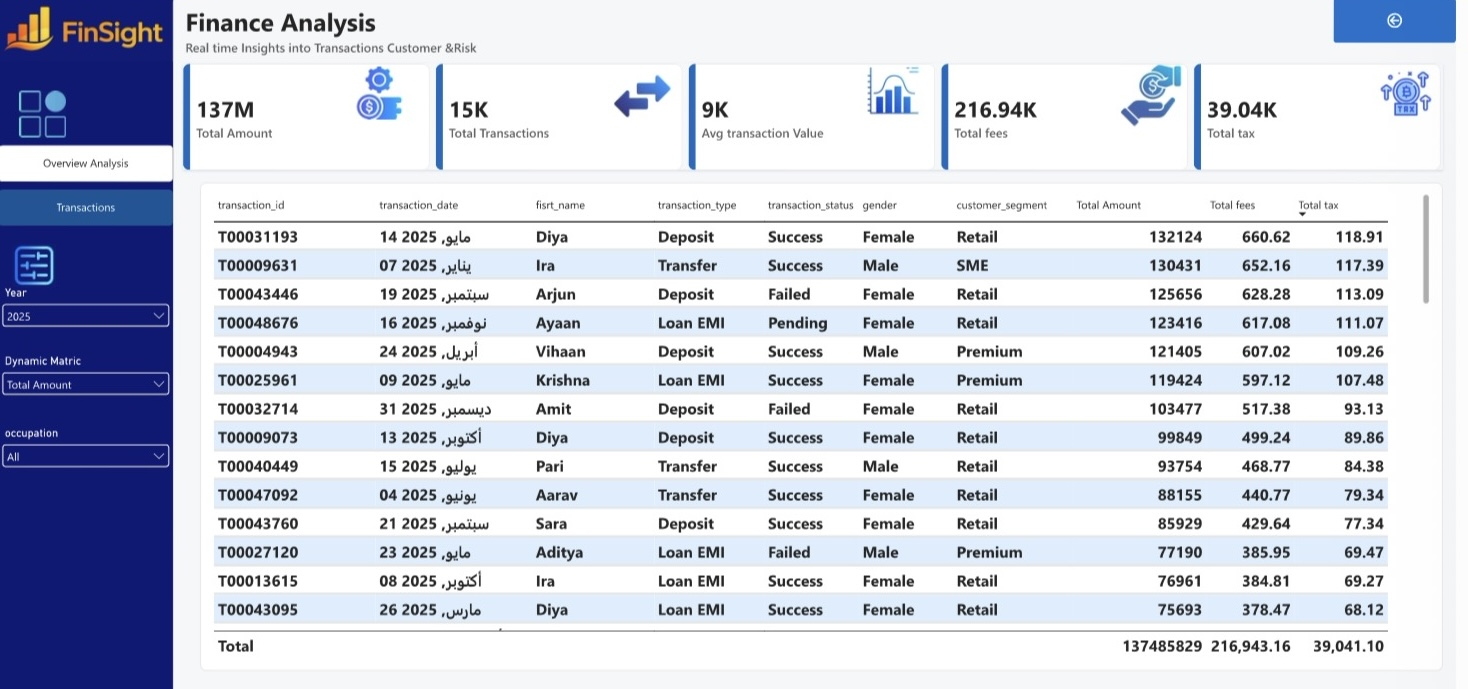

Layout of this report page (visuals, bound fields, positions):
{"tool":"powerbi","page":{"name":"Transactions","canvas":[1880,900],"ordinal":1},"visuals":[{"type":"shape","box":[0,0,279.9,1053.9],"z":0},{"type":"shape","box":[225,0,1753.3,1053.3],"z":1000},{"type":"cardVisual","fields":{"Data":["Calender Table.Dahboard Title"]},"box":[225,0,416.7,90],"z":2000},{"type":"image","box":[0,0,225,90],"z":3000},{"type":"cardVisual","fields":{"Data":["Calender Table.Total Amount","Calender Table.Total Transactions","Calender Table.Avg transaction Value","Calender Table.Total fees","Calender Table.Total tax"]},"box":[238.3,90,1625,136.7],"z":4000},{"type":"slicer","fields":{"Values":["Calender Table.Year"]},"box":[0,376.7,225,115],"z":5000},{"type":"image","box":[433.3,93.3,113.3,68.3],"z":6000},{"type":"image","box":[1101.7,90,103.3,68.3],"z":7000},{"type":"image","box":[0,125,113.3,60],"z":8000},{"type":"image","box":[0,321.7,91.7,56.7],"z":9000},{"type":"image","box":[1766.7,90,96.7,76.7],"z":10000},{"type":"image","box":[1441.7,90,90,80],"z":11000},{"type":"image","box":[783.3,93.3,93.3,76.7],"z":12000},{"type":"slicer","fields":{"Values":["Dynamic Matric.Dynamic Matric"]},"box":[0,465,225,83.3],"z":13000},{"type":"slicer","fields":{"Values":["customers.occupation"]},"box":[0,558.3,225,115],"z":14000},{"type":"tableEx","fields":{"Values":["finance_transactions.transaction_id","finance_transactions.transaction_date","customers.fisrt_name","finance_transactions.transaction_type","finance_transactions.transaction_status","customers.gender","customers.customer_segment","Calender Table.Total Amount","Calender Table.Total fees","Calender Table.Total tax"]},"box":[260,243.3,1603.3,630],"z":15000},{"type":"actionButton","box":[1721.7,5,158.3,58.3],"z":16000},{"type":"pageNavigator","box":[0,195,225,105],"z":17000}]}

Visuals, with their boxes on the page's 1880x900 design canvas (x1, y1, x2, y2). These are canvas units, not pixel positions in the 1468x689 screenshot, which may show the page scaled, cropped or inside an application window:
shape: x1=0 y1=0 x2=280 y2=1054
shape: x1=225 y1=0 x2=1978 y2=1053
cardVisual - Calender Table.Dahboard Title: x1=225 y1=0 x2=642 y2=90
image: x1=0 y1=0 x2=225 y2=90
cardVisual - Calender Table.Total Amount x Calender Table.Total Transactions: x1=238 y1=90 x2=1863 y2=227
slicer - Calender Table.Year: x1=0 y1=377 x2=225 y2=492
image: x1=433 y1=93 x2=547 y2=162
image: x1=1102 y1=90 x2=1205 y2=158
image: x1=0 y1=125 x2=113 y2=185
image: x1=0 y1=322 x2=92 y2=378
image: x1=1767 y1=90 x2=1863 y2=167
image: x1=1442 y1=90 x2=1532 y2=170
image: x1=783 y1=93 x2=877 y2=170
slicer - Dynamic Matric.Dynamic Matric: x1=0 y1=465 x2=225 y2=548
slicer - customers.occupation: x1=0 y1=558 x2=225 y2=673
tableEx - finance_transactions.transaction_id x finance_transactions.transaction_date: x1=260 y1=243 x2=1863 y2=873
actionButton: x1=1722 y1=5 x2=1880 y2=63
pageNavigator: x1=0 y1=195 x2=225 y2=300
